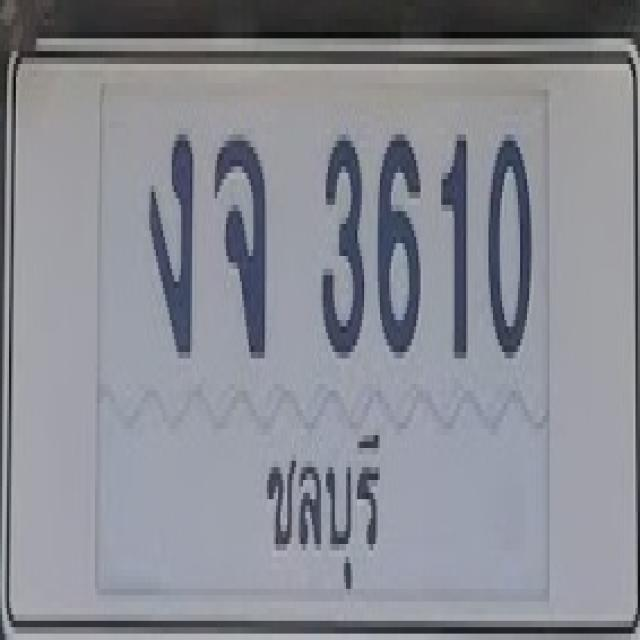license_plate: (2, 25, 640, 640)
